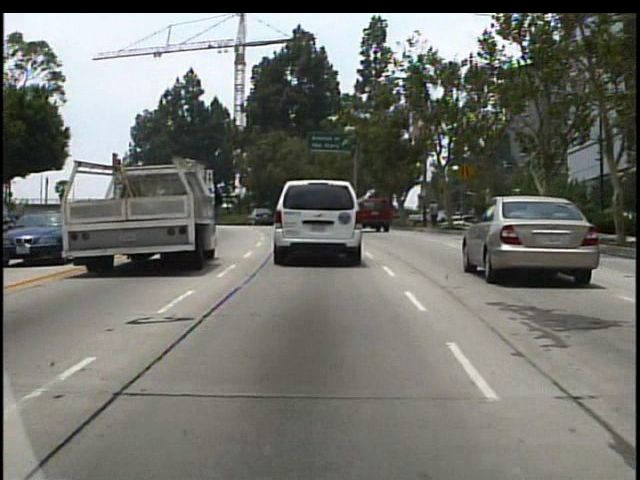person: (429, 195, 442, 230)
